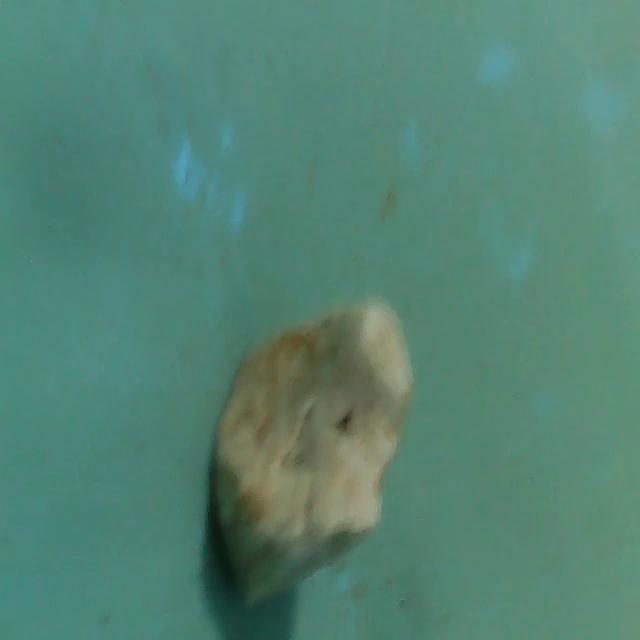rock: (210, 292, 413, 626)
